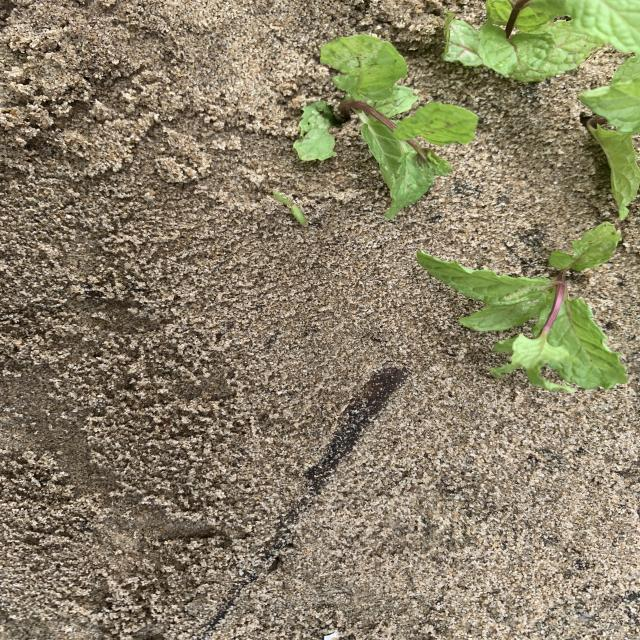crop: (418, 221, 628, 390), (321, 35, 478, 219), (442, 0, 640, 81), (579, 56, 640, 219), (293, 101, 337, 161)
weed: (273, 191, 311, 227)
